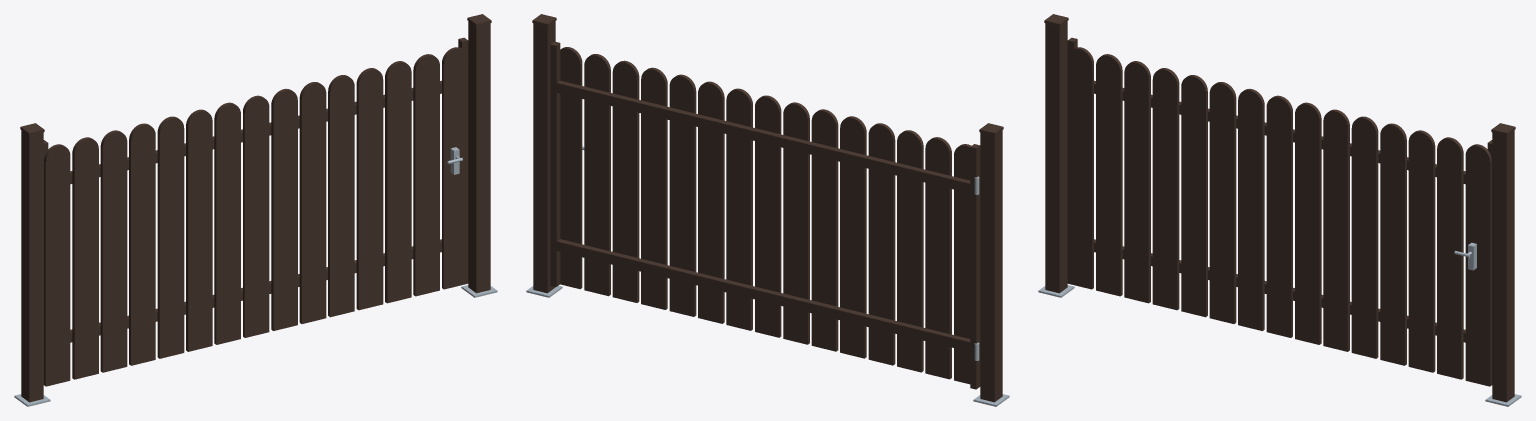
Rendered from 10-jednokrilna.glb.
The picture shows the model from 3 angles, left to right: view 1: azimuth 30°, elevation 25°; view 2: azimuth 150°, elevation 25°; view 3: azimuth 330°, elevation 25°; orthographic projection.
Parts seen in each view (by area): view 1: Ispuna_zaobljena_letvica.069, Ispuna_zaobljena_letvica.071, Ispuna_zaobljena_letvica.078, Ispuna_zaobljena_letvica.076, Ispuna_zaobljena_letvica.072, Ispuna_zaobljena_letvica.070, Ispuna_zaobljena_letvica.073, Ispuna_zaobljena_letvica.080, Ispuna_zaobljena_letvica.075, Ispuna_zaobljena_letvica.079, Ispuna_zaobljena_letvica.068, Ispuna_zaobljena_letvica.067 (+7 smaller); view 2: Stub_levi.037, Ispuna_zaobljena_letvica.072, Ispuna_zaobljena_letvica.077, Ispuna_zaobljena_letvica.070, Ispuna_zaobljena_letvica.079, Ispuna_zaobljena_letvica.068, Ispuna_zaobljena_letvica.069, Ispuna_zaobljena_letvica.078, Ispuna_zaobljena_letvica.074, Ispuna_zaobljena_letvica.075, Ispuna_zaobljena_letvica.076, Ispuna_zaobljena_letvica.071 (+9 smaller); view 3: Ispuna_zaobljena_letvica.079, Ispuna_zaobljena_letvica.070, Ispuna_zaobljena_letvica.077, Ispuna_zaobljena_letvica.072, Ispuna_zaobljena_letvica.067, Ispuna_zaobljena_letvica.076, Ispuna_zaobljena_letvica.068, Ispuna_zaobljena_letvica.075, Ispuna_zaobljena_letvica.078, Ispuna_zaobljena_letvica.069, Ispuna_zaobljena_letvica.073, Ispuna_zaobljena_letvica.071 (+7 smaller).
Part boxes in pixels (box(x1,y1,x2,y2)): Ispuna_zaobljena_letvica.069: box(100, 130, 127, 372); Ispuna_zaobljena_letvica.071: box(157, 116, 184, 358); Ispuna_zaobljena_letvica.078: box(356, 68, 383, 310); Ispuna_zaobljena_letvica.076: box(299, 82, 326, 323); Ispuna_zaobljena_letvica.072: box(186, 109, 212, 351); Ispuna_zaobljena_letvica.070: box(129, 123, 155, 365); Ispuna_zaobljena_letvica.073: box(214, 102, 240, 344); Ispuna_zaobljena_letvica.080: box(413, 54, 439, 296); Ispuna_zaobljena_letvica.075: box(271, 88, 297, 330); Ispuna_zaobljena_letvica.079: box(385, 61, 411, 303); Ispuna_zaobljena_letvica.068: box(72, 137, 98, 379); Ispuna_zaobljena_letvica.067: box(44, 144, 70, 386); Stub_levi.037: box(980, 130, 1002, 402); Ispuna_zaobljena_letvica.072: box(811, 109, 838, 351); Ispuna_zaobljena_letvica.077: box(669, 74, 696, 316); Ispuna_zaobljena_letvica.070: box(868, 123, 895, 365); Ispuna_zaobljena_letvica.079: box(612, 60, 639, 302); Ispuna_zaobljena_letvica.068: box(925, 137, 951, 379); Ispuna_zaobljena_letvica.069: box(897, 130, 923, 372); Ispuna_zaobljena_letvica.078: box(641, 67, 667, 309); Ispuna_zaobljena_letvica.074: box(755, 95, 781, 337); Ispuna_zaobljena_letvica.075: box(726, 88, 752, 330); Ispuna_zaobljena_letvica.076: box(698, 81, 724, 323); Ispuna_zaobljena_letvica.071: box(840, 116, 866, 358); Ispuna_zaobljena_letvica.079: box(1408, 130, 1435, 372); Ispuna_zaobljena_letvica.070: box(1152, 68, 1179, 310); Ispuna_zaobljena_letvica.077: box(1351, 116, 1378, 358); Ispuna_zaobljena_letvica.072: box(1209, 82, 1236, 323); Ispuna_zaobljena_letvica.067: box(1067, 47, 1093, 289); Ispuna_zaobljena_letvica.076: box(1323, 109, 1349, 351); Ispuna_zaobljena_letvica.068: box(1096, 54, 1122, 296); Ispuna_zaobljena_letvica.075: box(1295, 102, 1321, 344); Ispuna_zaobljena_letvica.078: box(1380, 123, 1406, 365); Ispuna_zaobljena_letvica.069: box(1124, 61, 1150, 303); Ispuna_zaobljena_letvica.073: box(1238, 88, 1264, 330); Ispuna_zaobljena_letvica.071: box(1181, 75, 1207, 317).
Bounding box in the file's own units: 3.26 × 1.8 × 0.19.
